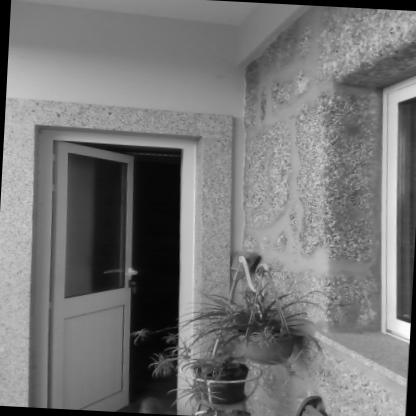semi: (12, 117, 222, 416)
